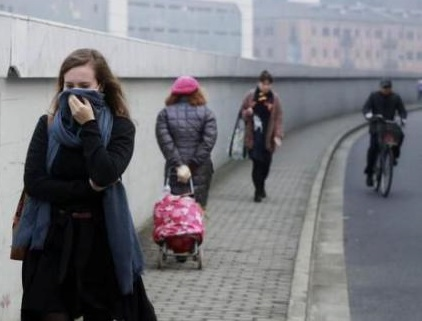person: (8, 47, 159, 321), (149, 70, 220, 275), (228, 67, 289, 207), (360, 76, 410, 198)
